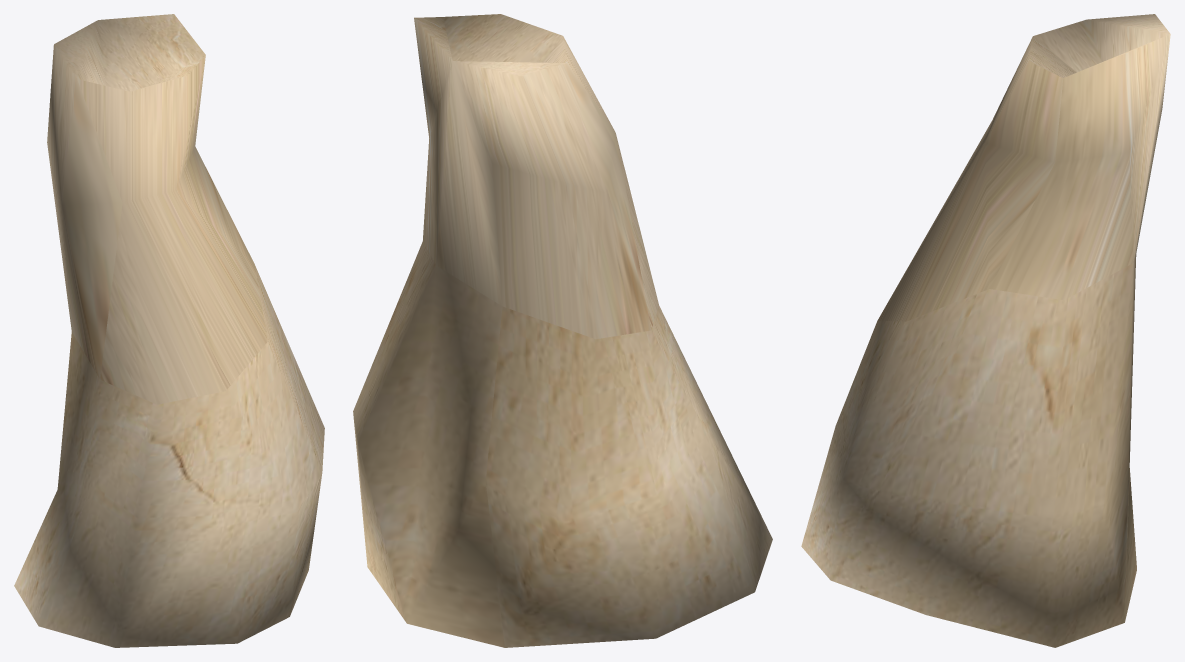
Rendered from smoke_stack_1.fbx.
The picture shows the model from 3 angles, left to right: view 1: azimuth 30°, elevation 25°; view 2: azimuth 150°, elevation 25°; view 3: azimuth 270°, elevation 25°; orthographic projection. The views are drawn at different scales.
Parts seen in each view (by area): view 1: Cylinder; view 2: Cylinder; view 3: Cylinder.
Boxes of the visible parts, bbox=[...] form: Cylinder: bbox=[14, 14, 324, 647]; Cylinder: bbox=[353, 14, 772, 647]; Cylinder: bbox=[801, 14, 1170, 647].
Bounding box in the file's own units: 267 × 445 × 263.
Materials: 1 (1 with a texture image).
